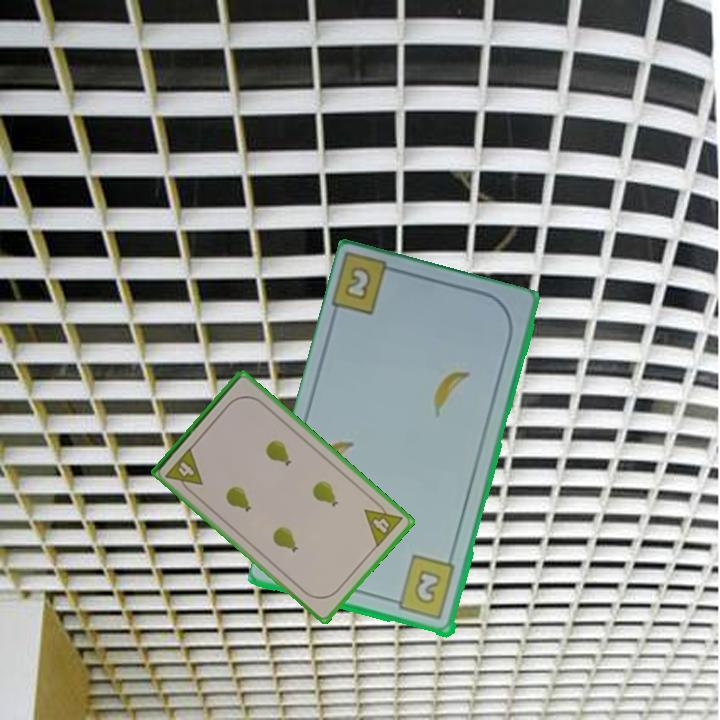2b: (386, 552, 459, 623), (341, 266, 372, 304)
4p: (361, 496, 406, 550), (162, 443, 206, 497)
